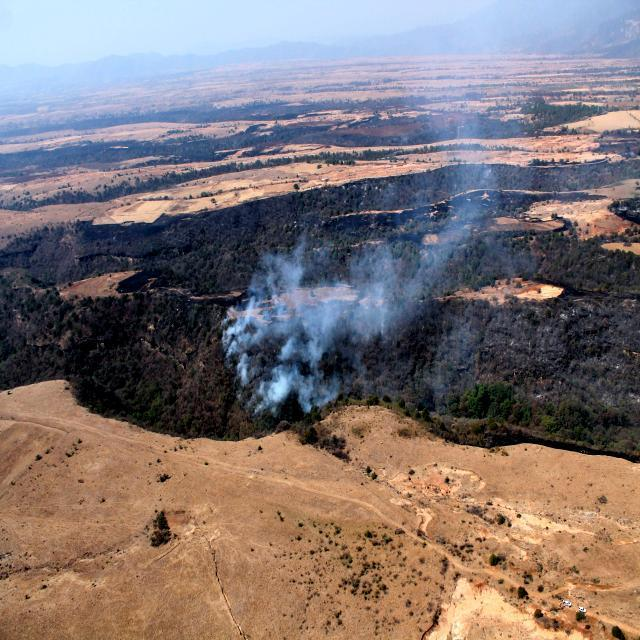Smoke: (228, 138, 506, 424)
